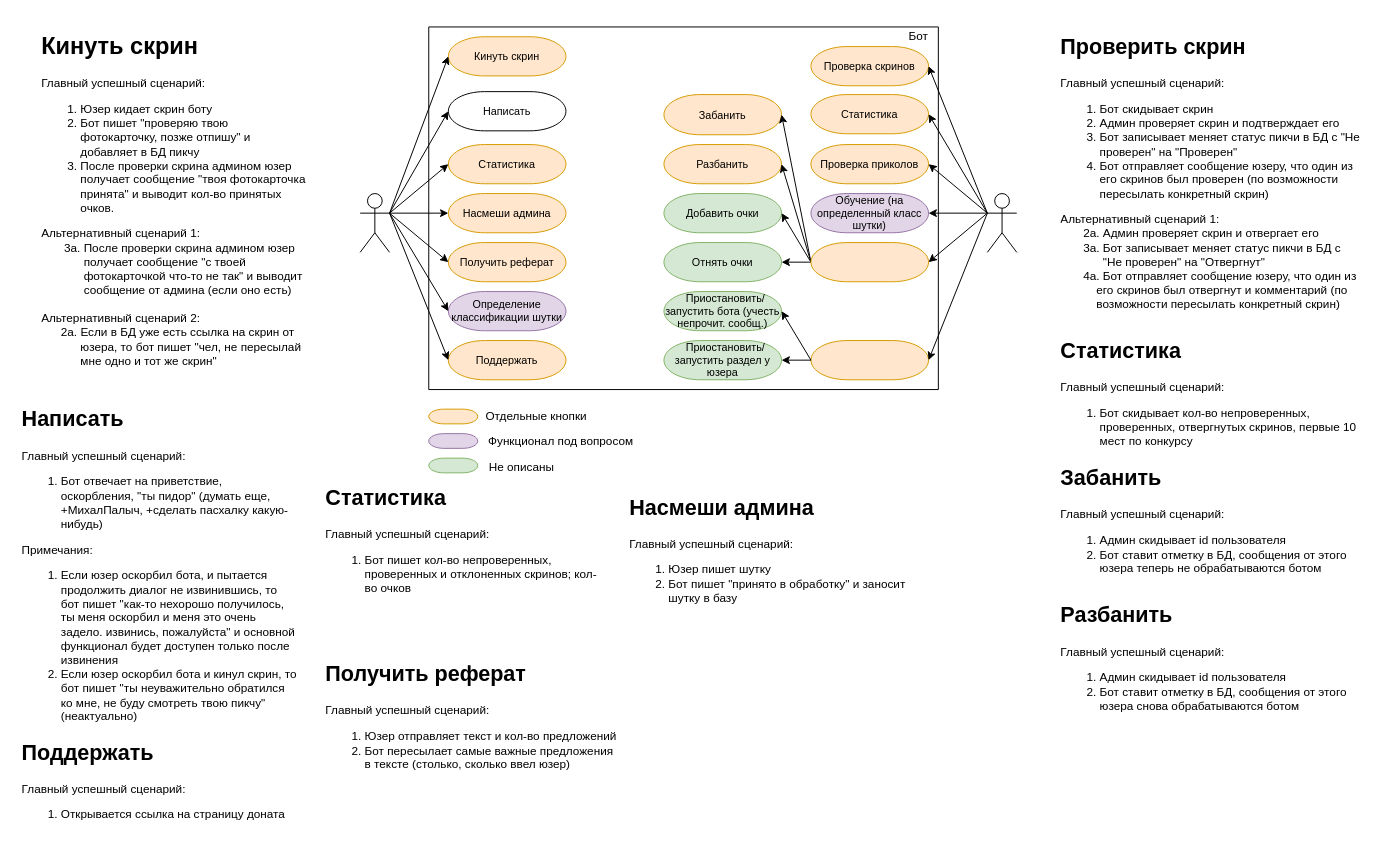
Some shapes in this 1386 by 866 pixel diagram are drawn without their labels. The shapes that lost their labels are listed below. From the top down, each one's centre as x and y in pixels, then its label:
At point 374,222: "Юзер".
At point 1001,222: "Админ".
At point 869,262: "Действия с юзером".
At point 869,360: "Управление ботом".
